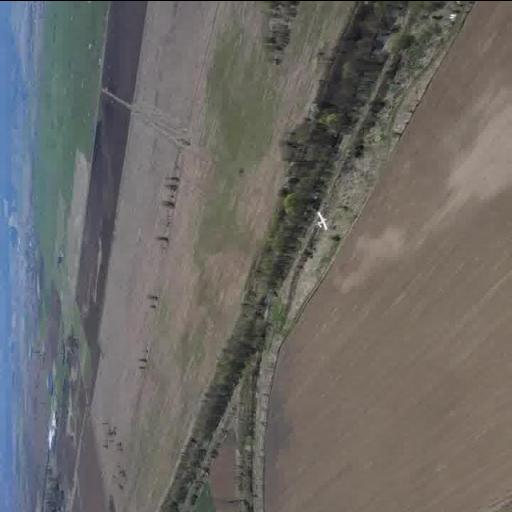uav: (312, 208, 336, 232)
